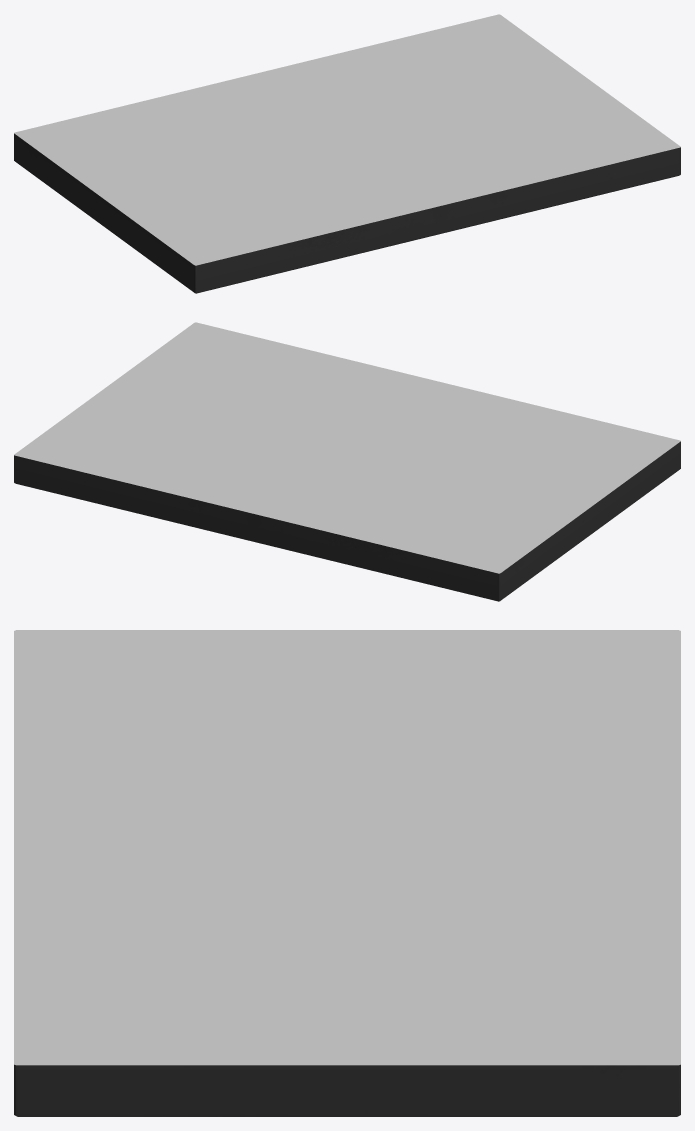
The model's file is SM_CorridorLight01.fbx.
The picture shows the model from 3 angles, top to bottom: view 1: azimuth 30°, elevation 25°; view 2: azimuth 150°, elevation 25°; view 3: azimuth 270°, elevation 25°; orthographic projection. The views are drawn at different scales.
Visible parts, largest first — view 1: SM_CorridorLight01_LOD0; view 2: SM_CorridorLight01_LOD0; view 3: SM_CorridorLight01_LOD0.
Part boxes in pixels (<box>): SM_CorridorLight01_LOD0: <box>14,14,680,293</box>; SM_CorridorLight01_LOD0: <box>14,322,680,601</box>; SM_CorridorLight01_LOD0: <box>14,630,680,1116</box>.
Size of the model in its own units: 236 by 153 by 13.24.
3 materials, 1 textured.
